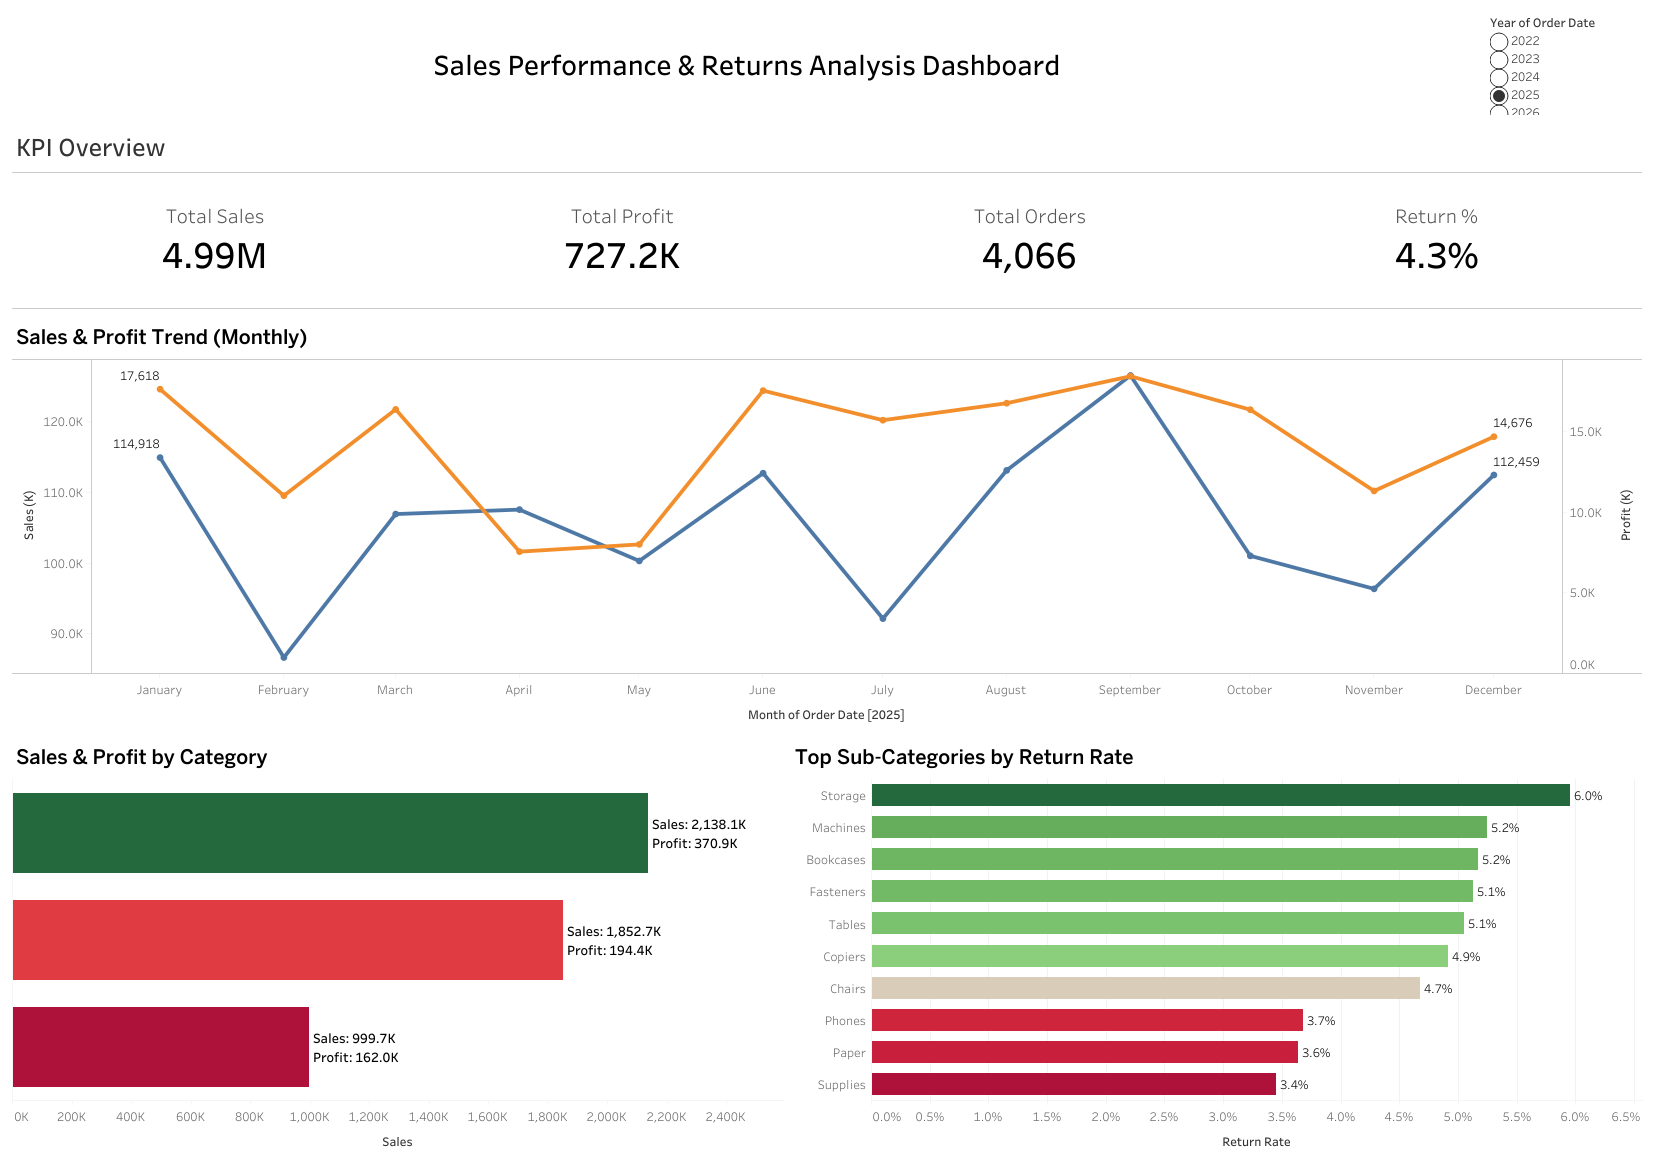

The dashboard page shown, as its layout file describes it:
{"tool":"tableau","page":{"name":"Dashboard 1","canvas":[1654,1169],"ordinal":0},"visuals":[{"type":"text","box":[8,8,1478,111]},{"type":"filter","title":"Sales Trend","param":"[federated.1y6ed0v0ebvh361720ay81ksc2w5].[yr:Order Date:ok]","box":[1486,8,160,111]},{"type":"worksheet","title":"KPI Overview","mark":"Automatic","box":[8,119,1638,194]},{"type":"worksheet","title":"Sales Trend","mark":"Line","rows":["Sales","Profit"],"cols":["Order Date"],"box":[8,313,1638,422]},{"type":"worksheet","title":"Category Performance ","mark":"Bar","rows":["Category"],"cols":["Sales"],"box":[8,735,779,426]},{"type":"worksheet","title":"Returns Analysis","mark":"Automatic","rows":["Sub-Category"],"cols":["Calculation_1434396540180922370"],"box":[787,735,859,426]}]}

Visuals, with their boxes in screenshot pixels (x1, y1, x2, y2), scaled from the page's 1654x1169 canvas onto the 1653x1168 screenshot:
text: locate(8, 8, 1485, 119)
"Sales Trend" filter: locate(1485, 8, 1645, 119)
"KPI Overview" worksheet: locate(8, 119, 1645, 313)
"Sales Trend" worksheet (Line marks): locate(8, 313, 1645, 734)
"Category Performance " worksheet (Bar marks): locate(8, 734, 787, 1160)
"Returns Analysis" worksheet: locate(787, 734, 1645, 1160)
